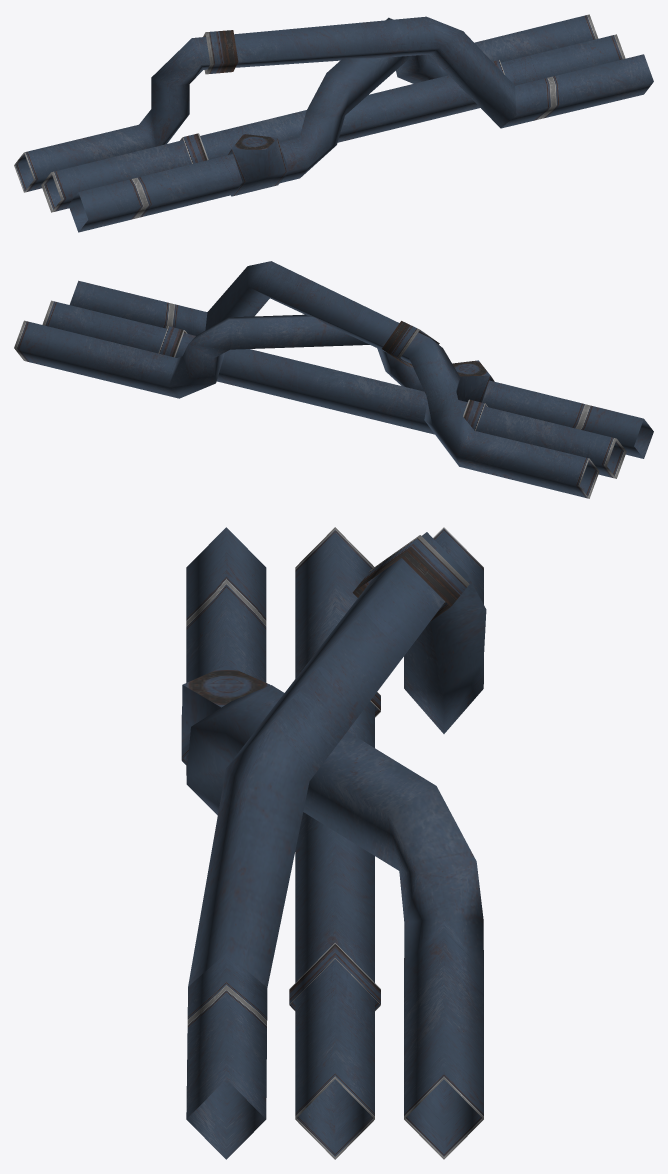
Rendered from Pipe3_D_L2.fbx.
3 renders of one model, top to bottom at view 1: azimuth 30°, elevation 25°; view 2: azimuth 150°, elevation 25°; view 3: azimuth 270°, elevation 25°, orthographic. The views are drawn at different scales.
Visible parts, largest first — view 1: PIpe3_D_L2; view 2: PIpe3_D_L2; view 3: PIpe3_D_L2.
Part boxes in pixels (x1,y1,x2,y2): PIpe3_D_L2: (14, 14, 653, 232); PIpe3_D_L2: (14, 261, 653, 498); PIpe3_D_L2: (181, 527, 486, 1159).
Bounding box in the file's own units: 200 × 42.33 × 46.68.
